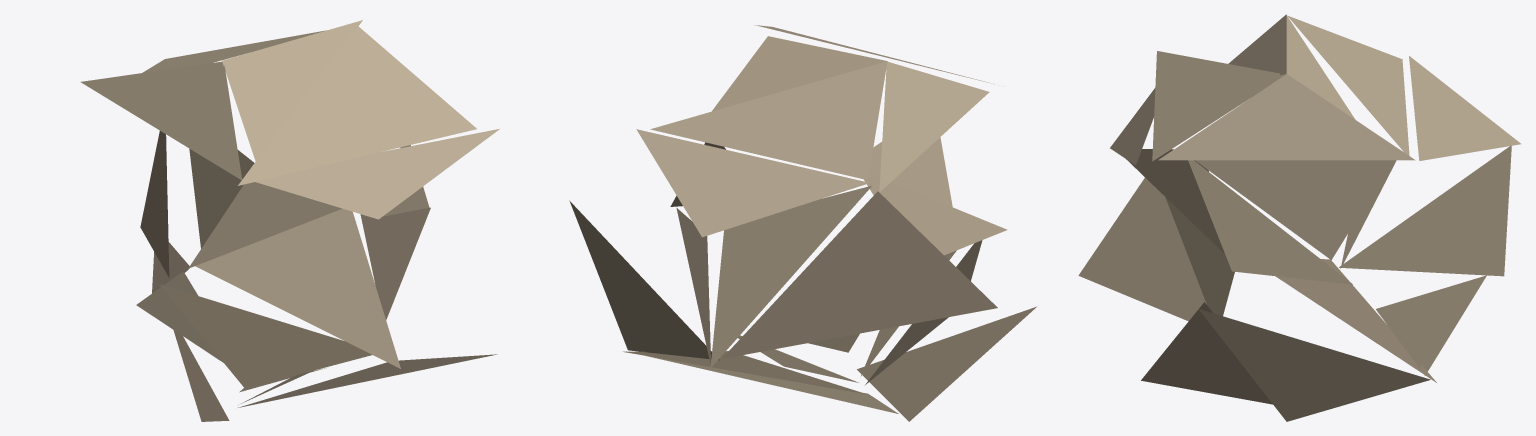
Rendered from rock-a.glb.
The picture shows the model from 3 angles, left to right: view 1: azimuth 30°, elevation 25°; view 2: azimuth 150°, elevation 25°; view 3: azimuth 270°, elevation 25°; orthographic projection. The views are drawn at different scales.
Parts seen in each view (by area): view 1: Rock_0; view 2: Rock_0; view 3: Rock_0.
Part boxes in pixels (x1,y1,x2,y2): Rock_0: (80, 20, 499, 421); Rock_0: (569, 25, 1036, 421); Rock_0: (1078, 14, 1521, 421).
Size of the model in its own units: 2.16 by 1.75 by 2.04.
